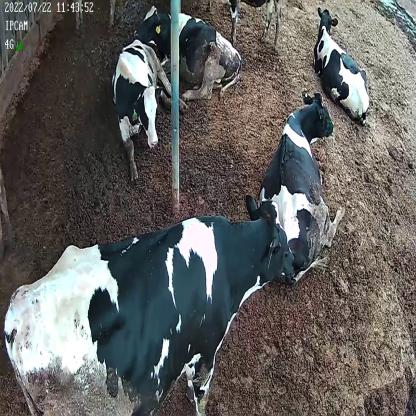cow: (3, 187, 294, 416), (249, 85, 348, 285), (112, 37, 188, 186), (130, 5, 240, 96), (313, 6, 370, 128)
